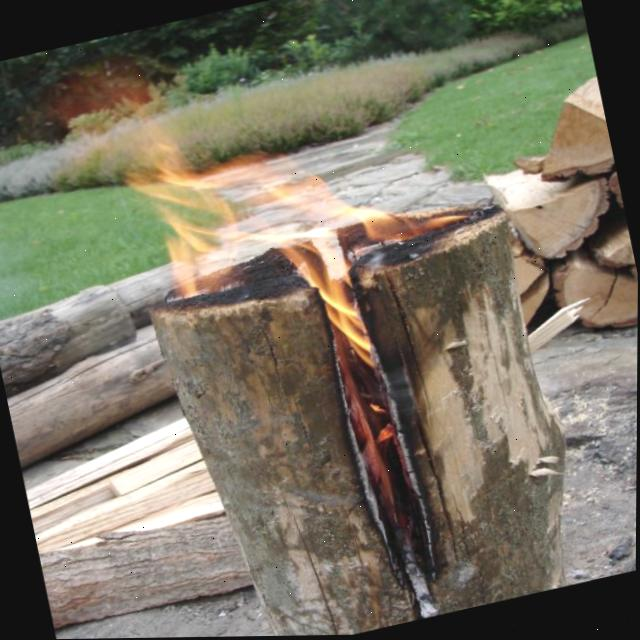fire: (166, 242, 438, 620), (113, 156, 379, 327), (125, 116, 240, 258)
